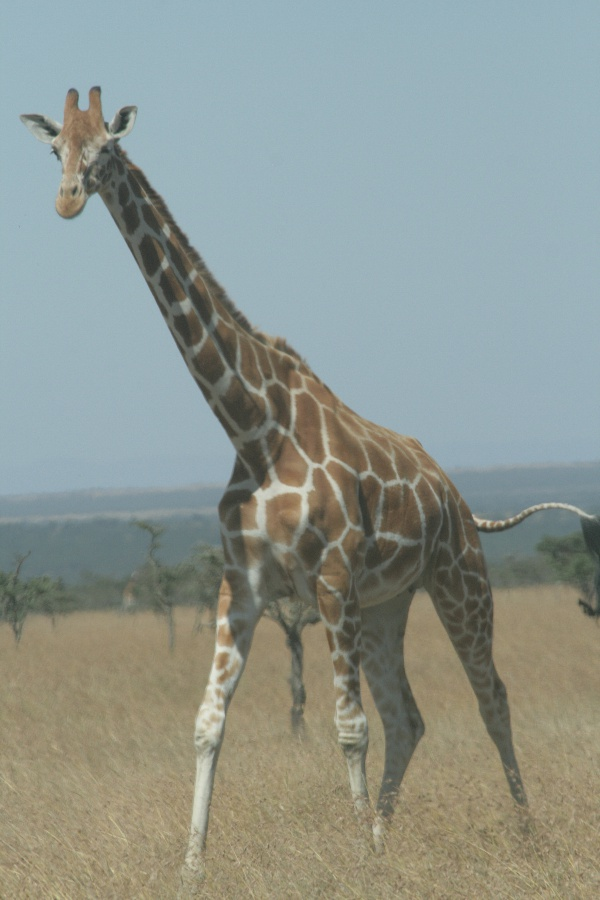giraffe: (18, 71, 551, 855)
